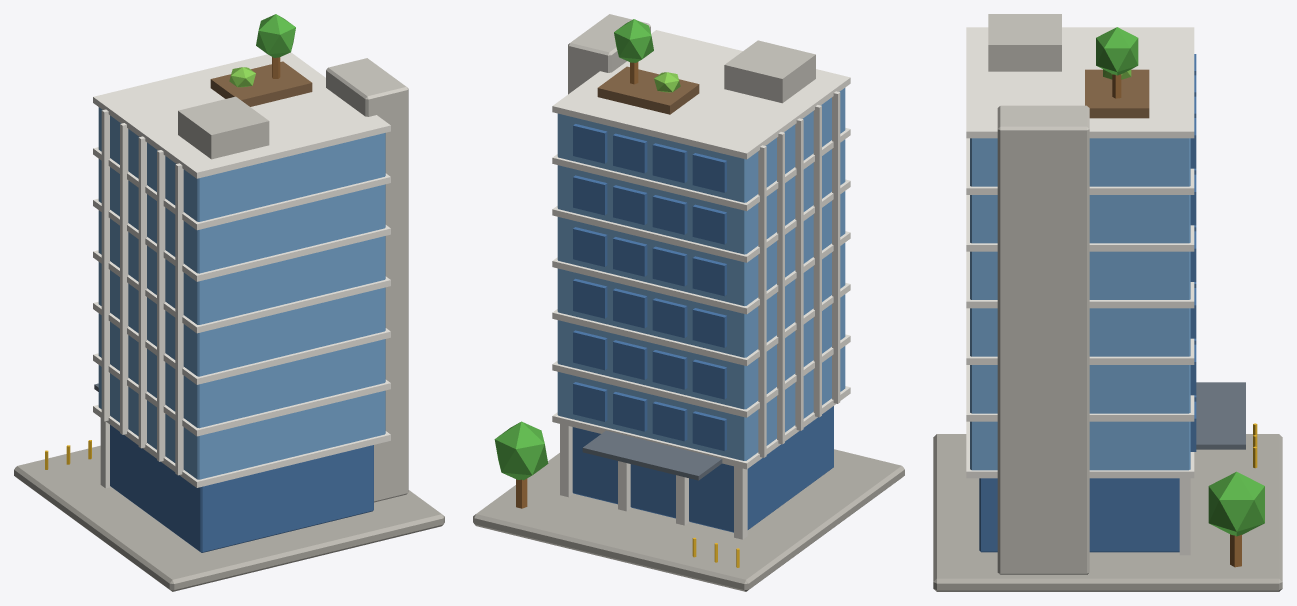
Rendered from comercial-escritorio.glb.
3 views of the same model, side by side, from view 1: azimuth 30°, elevation 25°; view 2: azimuth 150°, elevation 25°; view 3: azimuth 270°, elevation 25° (orthographic). The views are drawn at different scales.
Visible parts, largest first — view 1: corpo; view 2: corpo; view 3: corpo.
Part boxes in pixels (<box>): corpo: <box>14,14,444,591</box>; corpo: <box>473,14,904,591</box>; corpo: <box>933,14,1282,591</box>.
Size of the model in its own units: 1.9 by 3.12 by 1.9.
